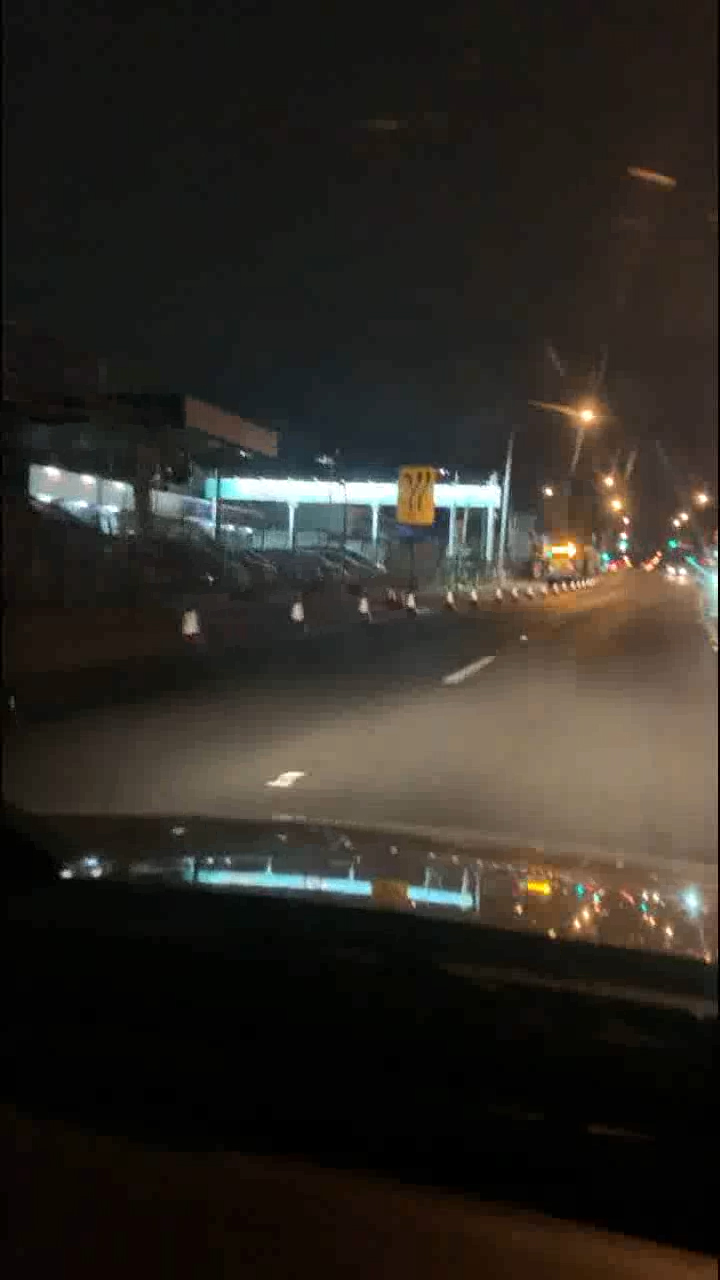road cone: (167, 598, 220, 662), (275, 586, 328, 650), (348, 581, 387, 640), (398, 579, 437, 638), (449, 575, 488, 634), (494, 575, 533, 634)
truck: (537, 533, 595, 577)
